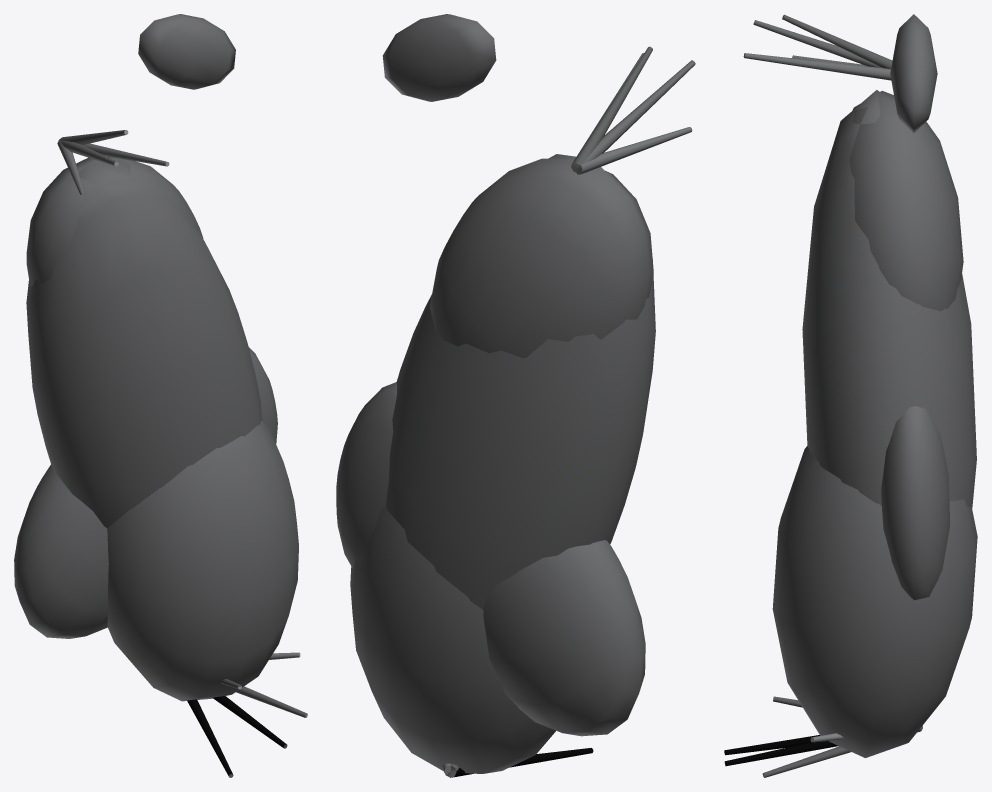
The picture shows the model from 3 angles, left to right: view 1: azimuth 30°, elevation 25°; view 2: azimuth 150°, elevation 25°; view 3: azimuth 270°, elevation 25°; orthographic projection. The views are drawn at different scales.
Size of the model in its own units: 0.334 by 0.8517 by 0.2617.
